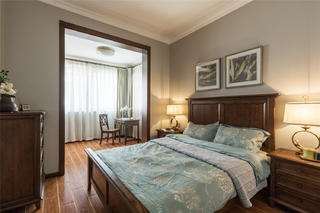床: (93, 134, 276, 213)
枕头: (181, 122, 266, 153)
灯: (284, 100, 320, 163), (163, 103, 184, 132), (95, 46, 116, 59)
